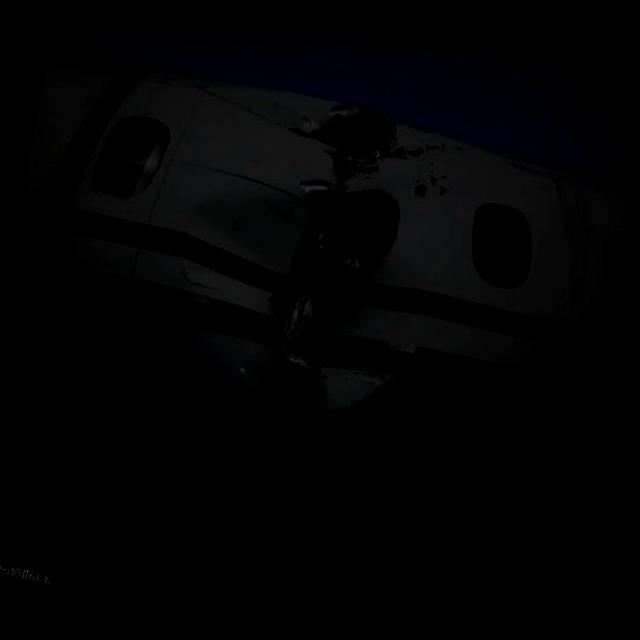crack: (227, 88, 421, 460)
dent: (162, 172, 309, 346), (284, 402, 424, 532)
